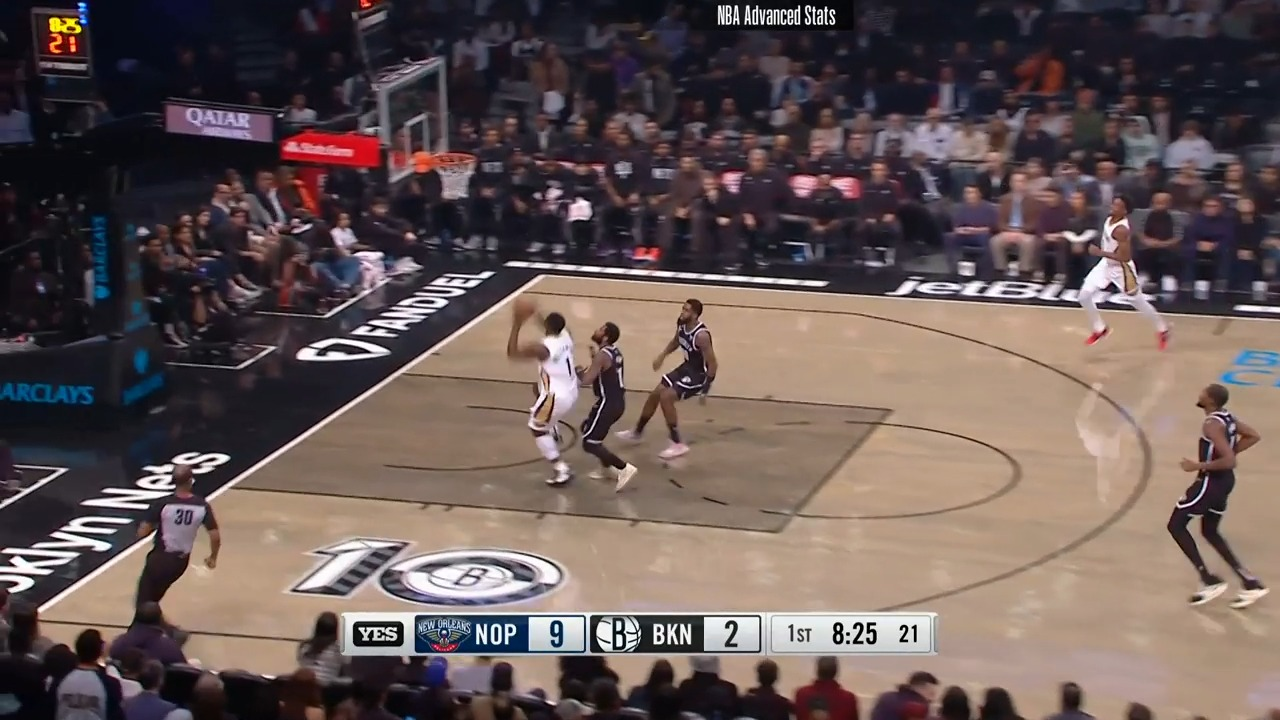net: (407, 143, 481, 203)
player: (1151, 383, 1268, 611), (512, 307, 611, 493), (630, 300, 724, 466), (1076, 198, 1175, 354), (578, 322, 633, 476)
referee: (130, 463, 227, 651)
